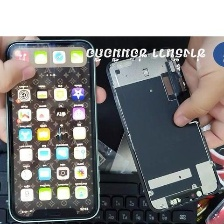phone: (102, 45, 223, 214), (2, 37, 103, 224)
